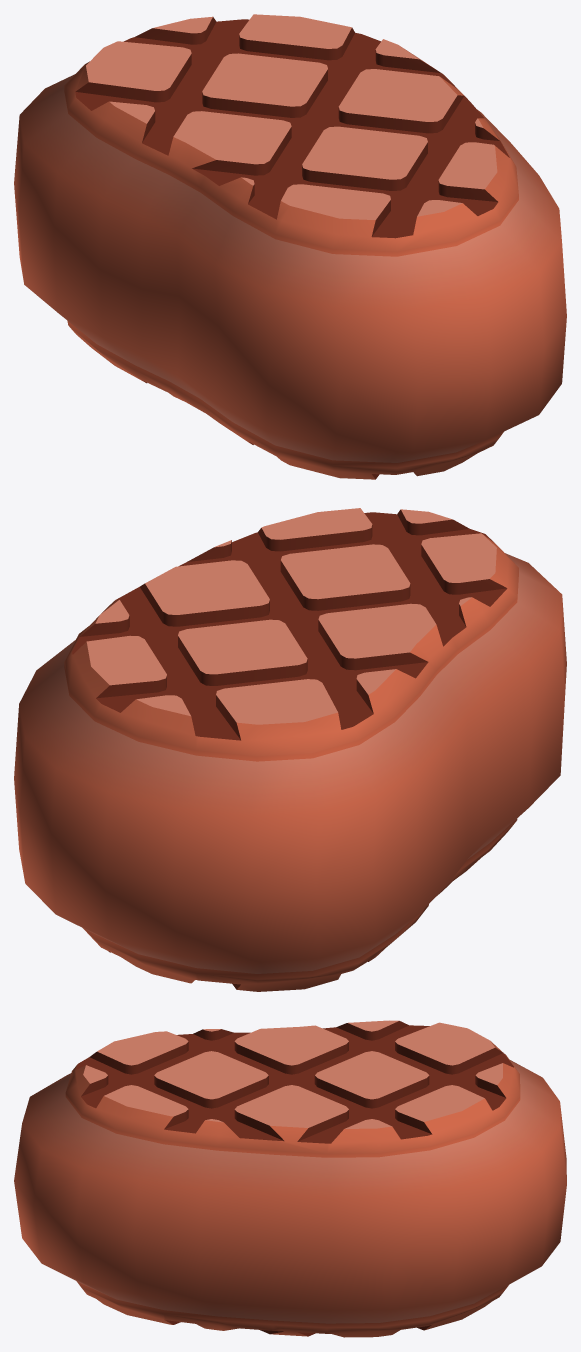
Rendered from Steak_V1_02.fbx.
The picture shows the model from 3 angles, top to bottom: view 1: azimuth 30°, elevation 25°; view 2: azimuth 150°, elevation 25°; view 3: azimuth 270°, elevation 25°; orthographic projection. The views are drawn at different scales.
Visible parts, largest first — view 1: Steak_V1_02; view 2: Steak_V1_02; view 3: Steak_V1_02.
Boxes of the visible parts, left/top/right/bottom form: Steak_V1_02: left=14, top=14, right=566, bottom=479; Steak_V1_02: left=14, top=508, right=566, bottom=991; Steak_V1_02: left=14, top=1020, right=566, bottom=1337.
Bounding box in the file's own units: 39.32 × 25.51 × 61.31.
